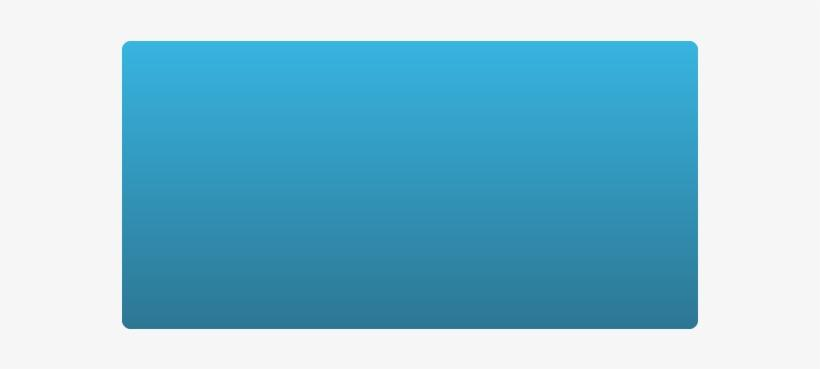cyan_zone: (119, 39, 698, 330)
